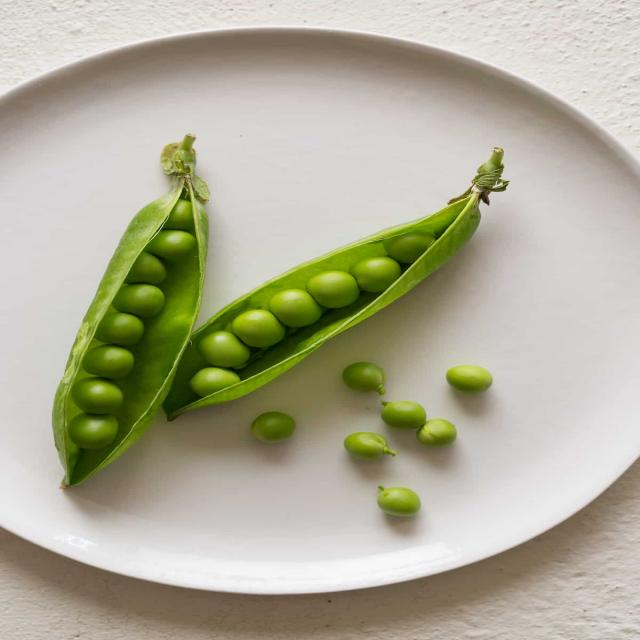pea: (186, 229, 434, 405), (54, 218, 192, 462)
